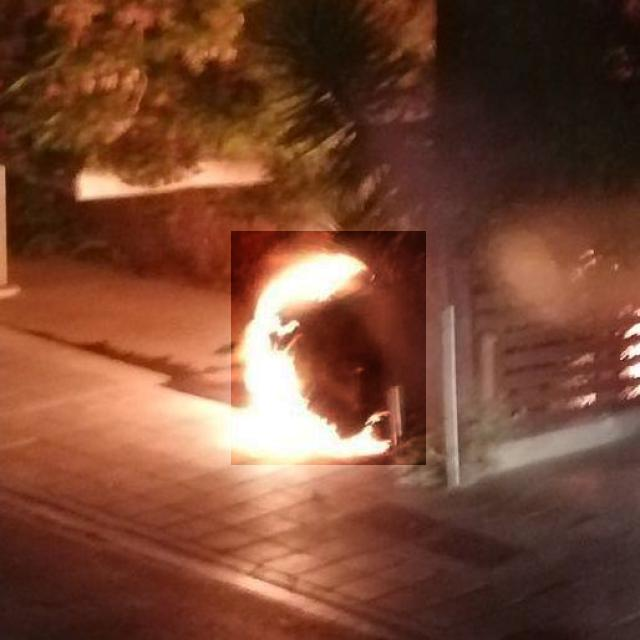Fire: (231, 231, 426, 465)
